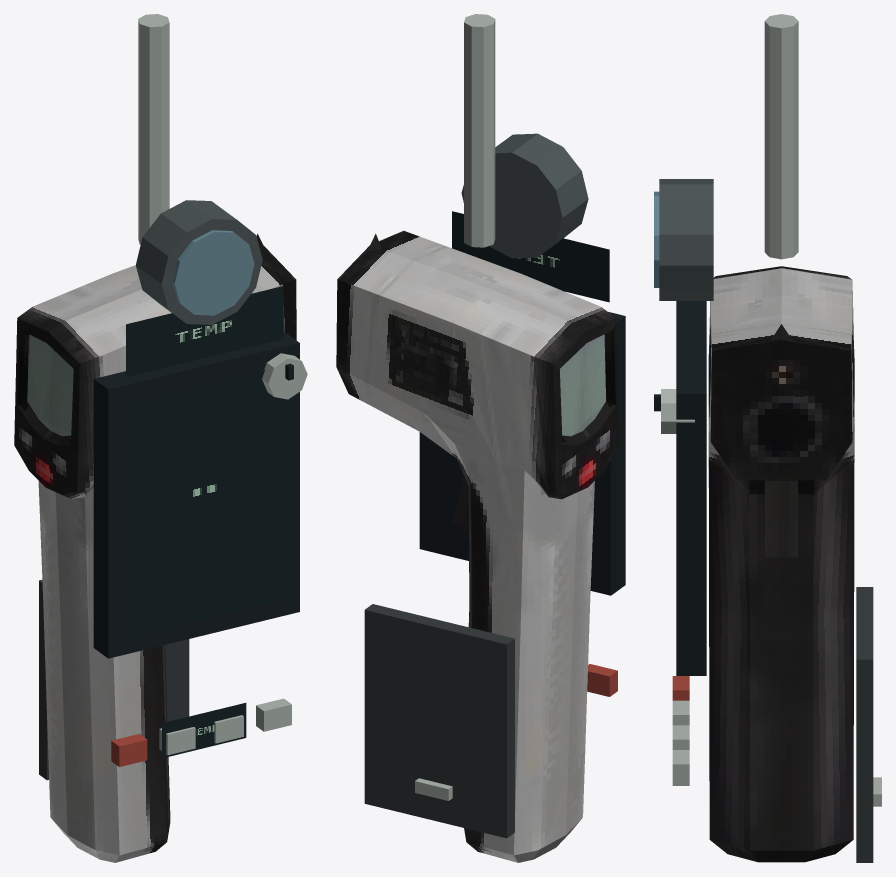
Rendered from blender_thermometer_3.glb.
The picture shows the model from 3 angles, left to right: view 1: azimuth 30°, elevation 25°; view 2: azimuth 150°, elevation 25°; view 3: azimuth 270°, elevation 25°; orthographic projection. The views are drawn at different scales.
Visible parts, largest first — view 1: blender_thermometer_3; view 2: blender_thermometer_3; view 3: blender_thermometer_3.
Boxes of the visible parts, box(x1,y1,x2,y2) form: blender_thermometer_3: box(14, 14, 307, 862); blender_thermometer_3: box(336, 14, 625, 862); blender_thermometer_3: box(654, 14, 881, 862).
Size of the model in its own units: 0.078 by 0.275 by 0.067.
1 material, 1 textured.
